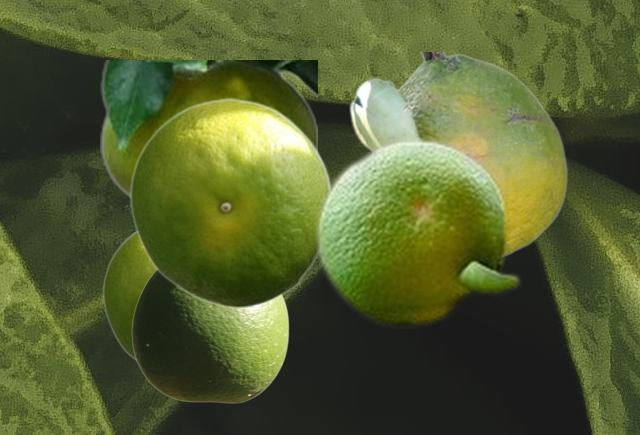dalandan: (348, 52, 567, 257), (129, 97, 331, 308), (313, 134, 522, 327), (100, 60, 316, 199), (131, 270, 288, 402), (102, 231, 154, 361)
